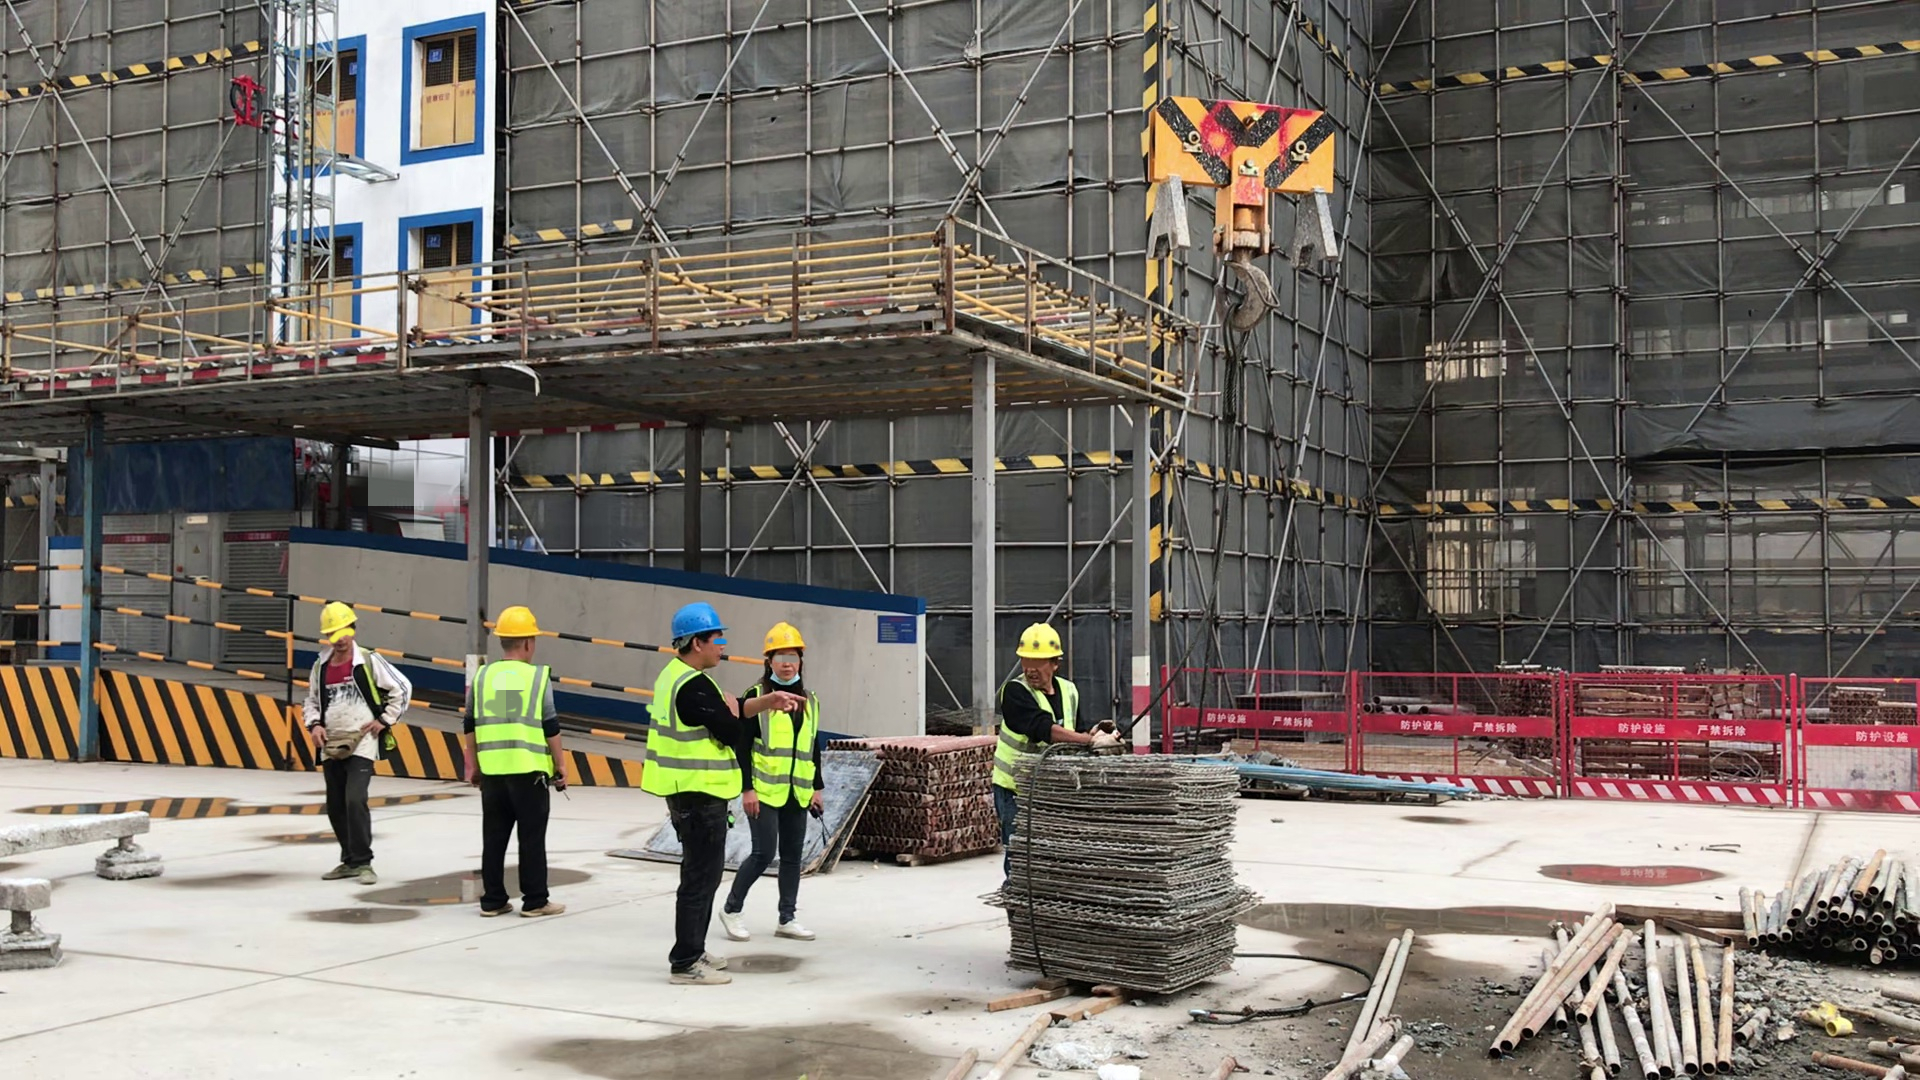fence: (1163, 656, 1920, 813)
helmet: (665, 601, 729, 640), (1012, 621, 1064, 662), (494, 603, 541, 641), (318, 600, 356, 637), (760, 624, 803, 656)
hook: (1142, 93, 1344, 329)
person: (651, 601, 755, 983), (464, 602, 578, 919), (297, 600, 417, 886), (741, 624, 825, 958), (994, 622, 1126, 799)
scaffold: (1477, 667, 1917, 775), (837, 739, 1000, 864)
vest: (648, 658, 741, 805), (472, 654, 555, 783), (995, 680, 1079, 800), (751, 676, 821, 816)
